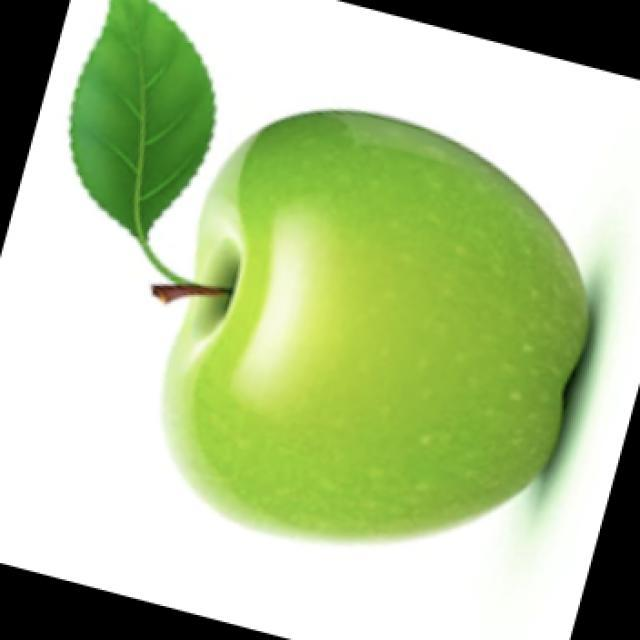Fresh Apple: (190, 117, 577, 525)
